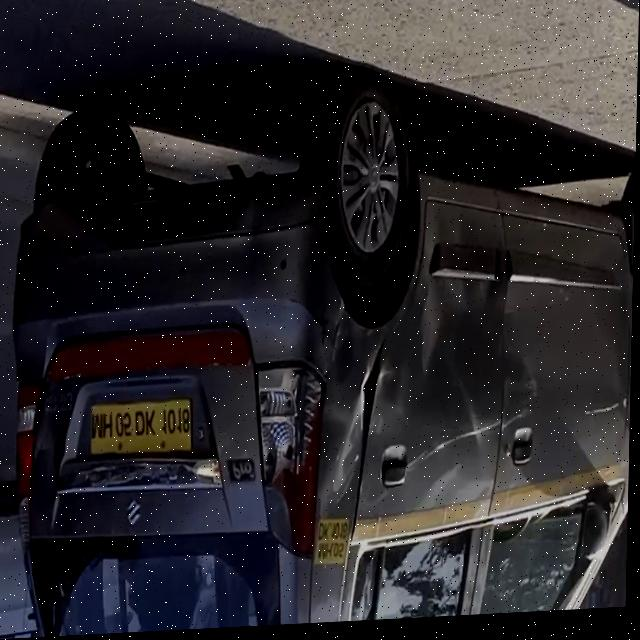plate: (90, 399, 197, 459), (317, 520, 354, 571)
